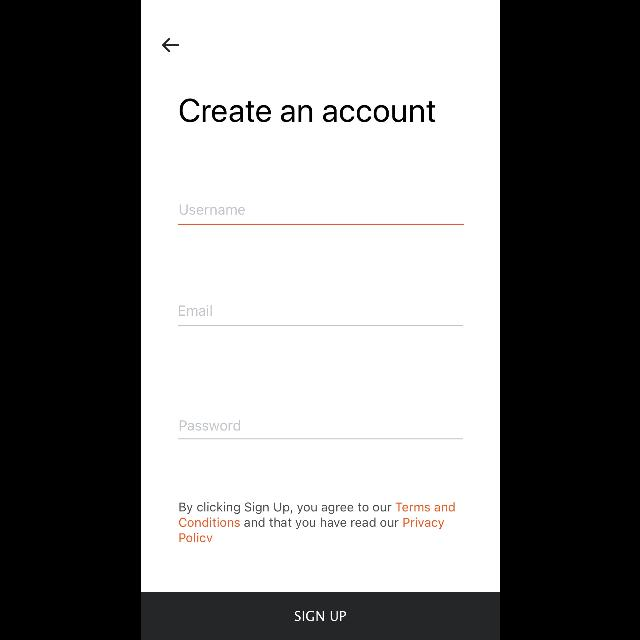icon: (162, 38, 178, 52)
input: (178, 204, 464, 226), (178, 304, 462, 326), (178, 420, 462, 440)
text: (179, 502, 455, 542), (179, 99, 435, 123)
textbutton: (140, 592, 500, 640)
